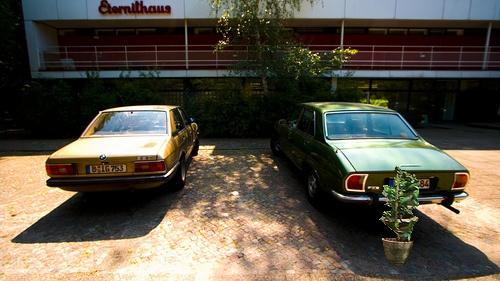tampered: (380, 167, 419, 265)
